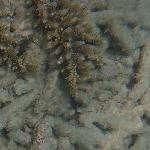dead: (3, 1, 145, 148)
